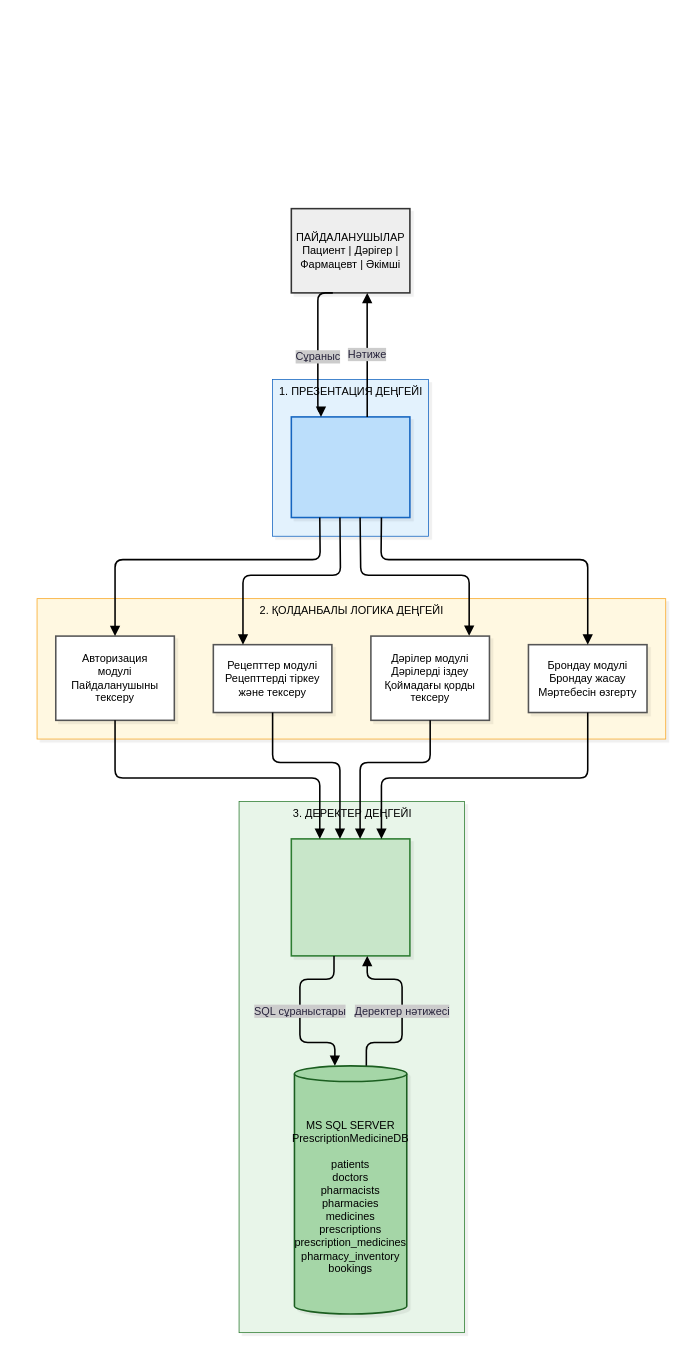
The diagram is 683 pixels wide and 1349 high, and some of its shapes have lost their labels. The shapes that lost their labels are listed below. From the top down, each one's centre as x and y in pixels, then its label:
At (x=351, y=468): "Веб-интерфейс Жүйеге кіру Дәрілерді іздеу Рецепттерді қарау Дәрілерді брондау".
At (x=351, y=898): "Деректерге қол жеткізу SQL сұраныстарын орындау Деректерді оқу және жаңарту".
